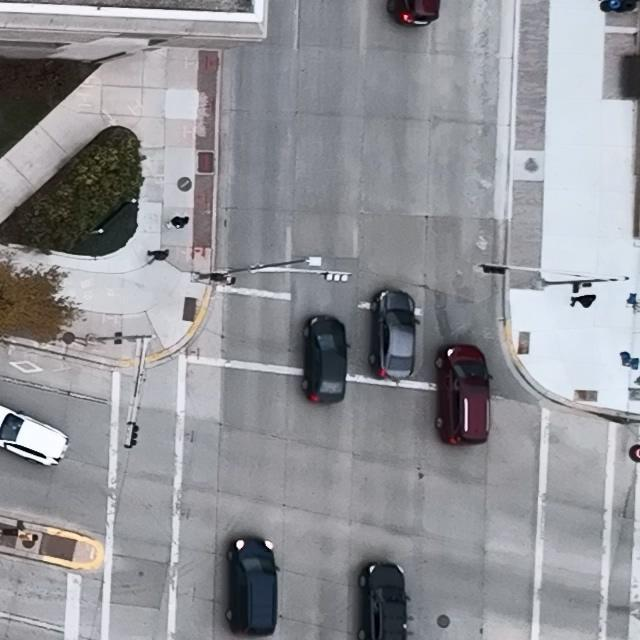car: (434, 343, 494, 446), (225, 538, 281, 636), (369, 290, 421, 380), (0, 404, 69, 467), (302, 315, 351, 403), (357, 562, 410, 640), (386, 0, 440, 26)
